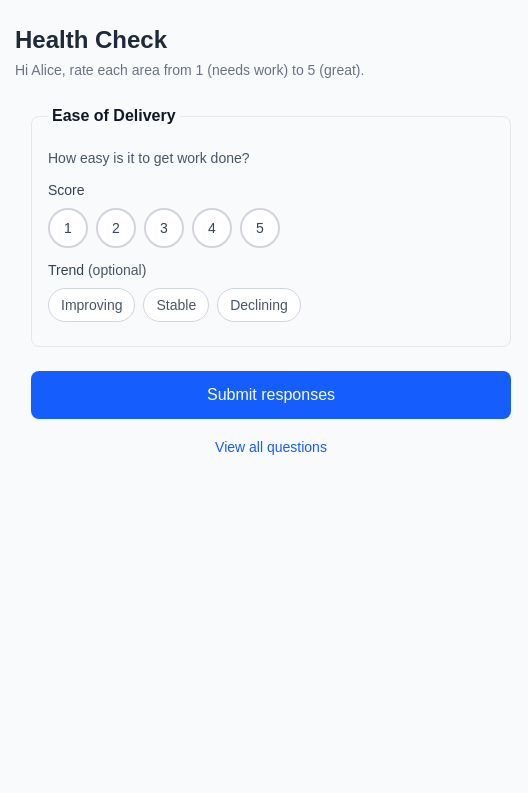
it: Session Link Landing Page › Micro-pulse mode (Requirement 4.1) › expands to the API-provided full question set without another request
Click the button "View all questions". click: (271,447)
box: [215,437,327,457]
(page scrolled)
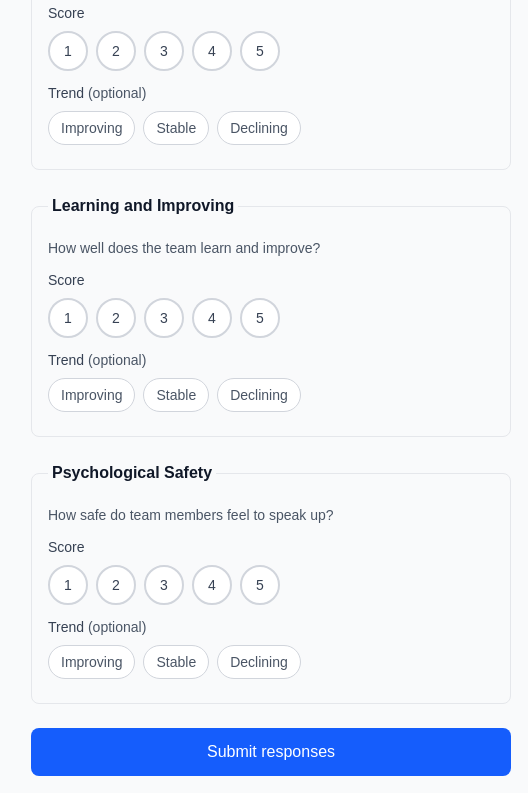
Expected: the text "Psychological Safety" is shown, [48,461,216,485]
